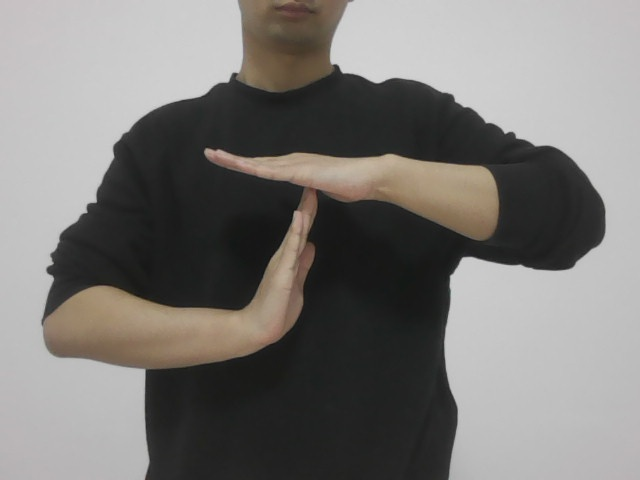stop: (191, 137, 396, 368)
